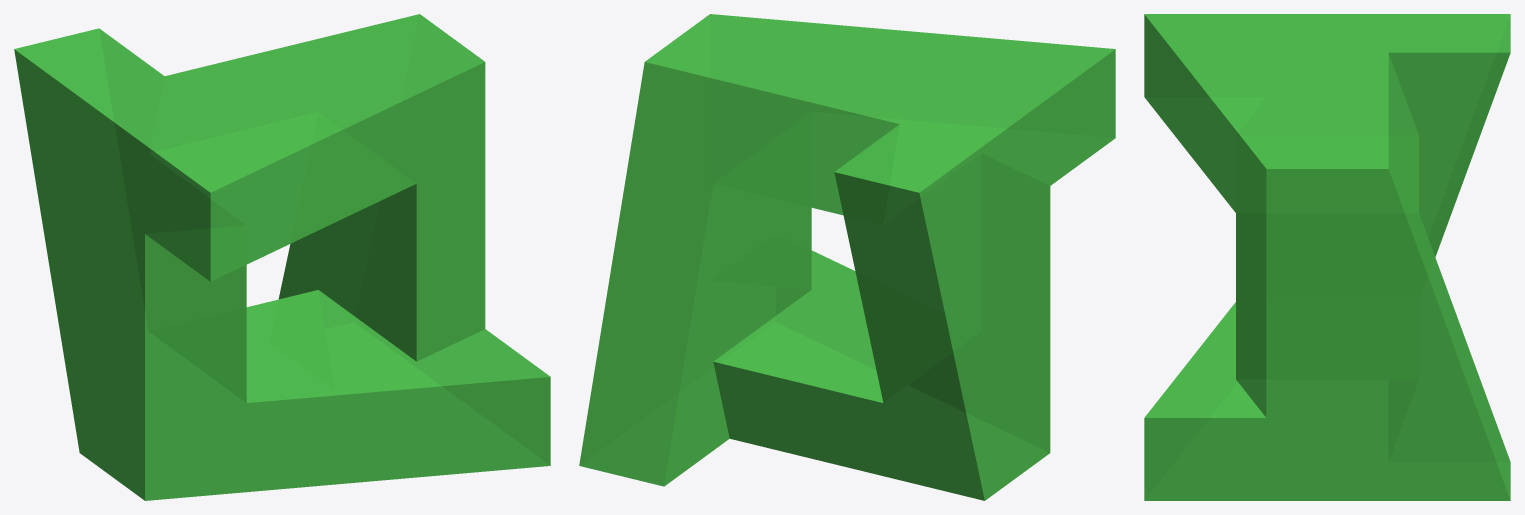
Rendered from HexagonalToroid_L.obj.
The picture shows the model from 3 angles, left to right: view 1: azimuth 30°, elevation 25°; view 2: azimuth 150°, elevation 25°; view 3: azimuth 270°, elevation 25°; orthographic projection. The views are drawn at different scales.
Size of the model in its own units: 12 by 12 by 12.
